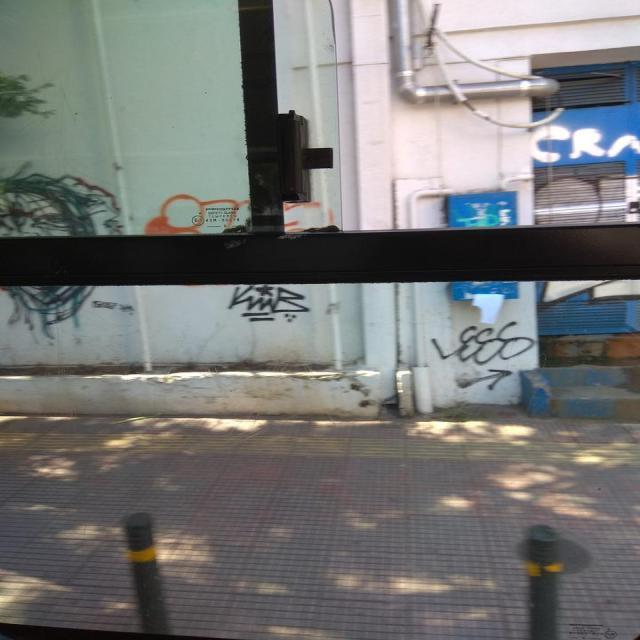nonspitting: (0, 160, 124, 324), (145, 192, 335, 234), (431, 321, 538, 389), (531, 124, 640, 161), (228, 284, 312, 322)
